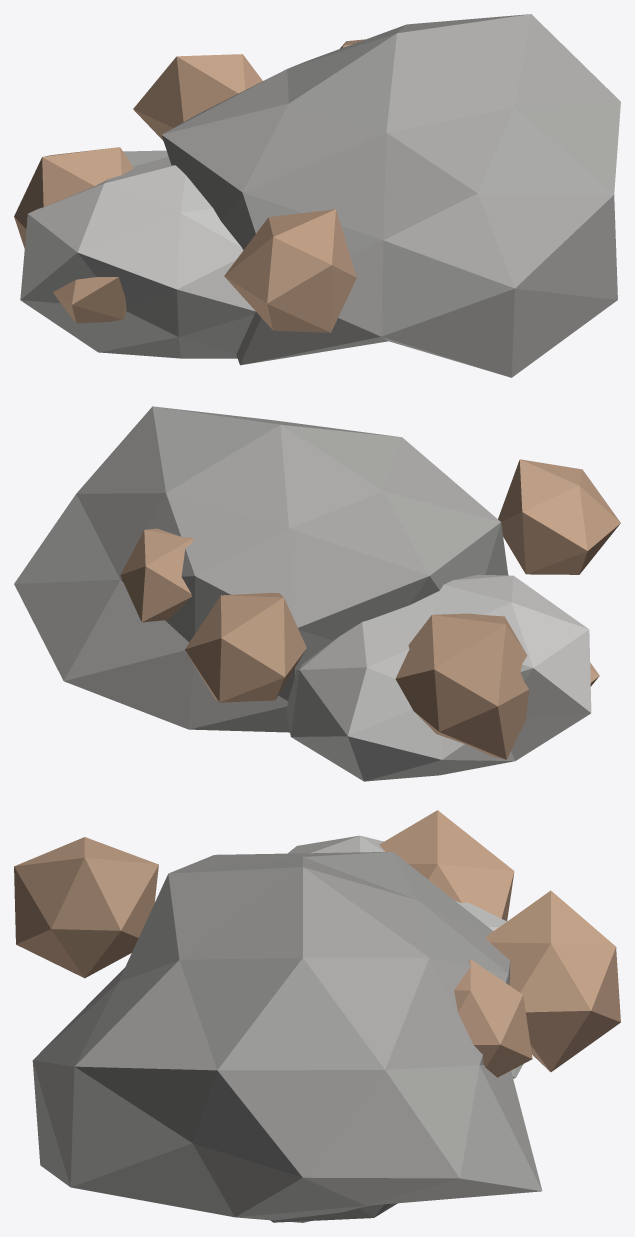
File: node_metal_2.glb
3 renders of one model, top to bottom at view 1: azimuth 30°, elevation 25°; view 2: azimuth 150°, elevation 25°; view 3: azimuth 270°, elevation 25°, orthographic. The views are drawn at different scales.
Parts seen in each view (by area): view 1: node_metal_2; view 2: node_metal_2; view 3: node_metal_2.
Boxes of the visible parts, left/top/right/bottom form: node_metal_2: left=14, top=14, right=620, bottom=377; node_metal_2: left=14, top=406, right=620, bottom=781; node_metal_2: left=14, top=810, right=620, bottom=1222.
Size of the model in its own units: 2.13 by 0.9435 by 1.74.
